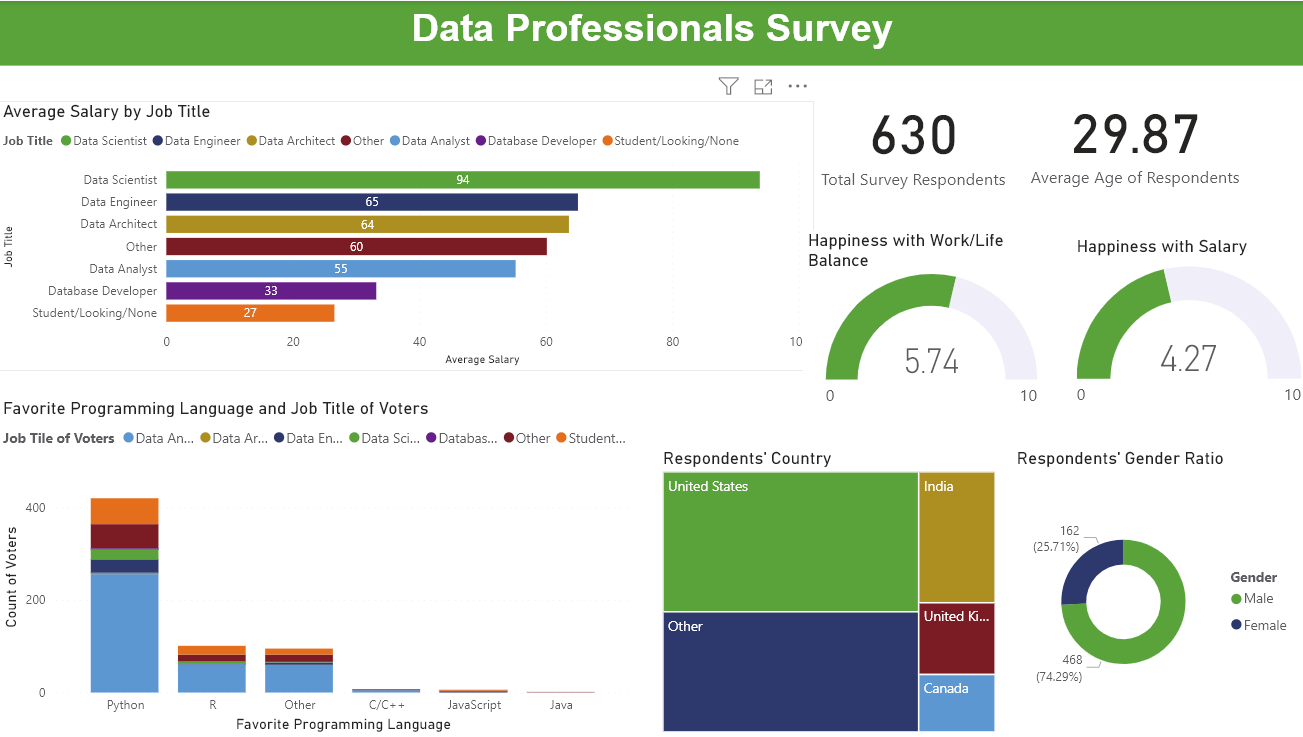

This screenshot's page, from the dashboard's own definition file:
{"tool":"powerbi","page":{"name":"Page 1","canvas":[1280,720],"ordinal":0},"visuals":[{"type":"textbox","box":[0,0,1279.9,63.6],"z":0},{"type":"card","fields":{"Values":["Count(Data Professional Survey.Unique ID)"]},"box":[798.2,75.8,194.4,118.6],"z":1000},{"type":"card","fields":{"Values":["Avg(Data Professional Survey.Q10 - Current Age)"]},"box":[1001.2,70.9,222.5,125.9],"z":2000},{"type":"barChart","title":"Average Salary by Job Title ","fields":{"Category":["Data Professional Survey.Q1 - Which Title Best Fits your Current Role?"],"Y":["Avg(Data Professional Survey.Average Salary (in USD))"],"Series":["Data Professional Survey.Q1 - Which Title Best Fits your Current Role?"]},"box":[0,97.8,798.2,264],"z":3000},{"type":"columnChart","title":"Favorite Programming Language and Job Title of Voters","fields":{"Category":["Data Professional Survey.Q5 - Favorite Programming Language"],"Y":["CountNonNull(Data Professional Survey.Unique ID)"],"Series":["Data Professional Survey.Q1 - Which Title Best Fits your Current Role?"]},"box":[0,387.5,624.7,332.5],"z":4000},{"type":"treemap","title":"Respondents'' Country","fields":{"Values":["CountNonNull(Data Professional Survey.Q11 - Which Country do you live in?)"],"Group":["Data Professional Survey.Q11 - Which Country do you live in?"]},"box":[645.4,436.4,334.9,283.6],"z":5000},{"type":"gauge","title":"Happiness with Salary","fields":{"Y":["Avg(Data Professional Survey.Q6 - How Happy are you in your Current Position with the following? (Salary))"],"MinValue":["Min(Data Professional Survey.Q6 - How Happy are you in your Current Position with the following? (Salary))"],"MaxValue":["Max(Data Professional Survey.Q6 - How Happy are you in your Current Position with the following? (Salary))"]},"box":[1050.1,229.8,229.8,182.1],"z":6000},{"type":"gauge","title":"Happiness with Work/Life Balance","fields":{"Y":["Avg(Data Professional Survey.Q6 - How Happy are you in your Current Position with the following? (Work/Life Balance))"],"MinValue":["Min(Data Professional Survey.Q6 - How Happy are you in your Current Position with the following? (Work/Life Balance))1"],"MaxValue":["Max(Data Professional Survey.Q6 - How Happy are you in your Current Position with the following? (Work/Life Balance))2"]},"box":[787.2,223.7,251.8,183.4],"z":7000},{"type":"donutChart","title":"Respondents'' Gender Ratio","fields":{"Category":["Data Professional Survey.Q9 - Male/Female?"],"Y":["CountNonNull(Data Professional Survey.Q9 - Male/Female?)"]},"box":[991.4,436.4,284.8,283.6],"z":8000}]}

Visuals, with their boxes in screenshot pixels (x1, y1, x2, y2), scaled from the page's 1280x720 canvas onto the 1303x737 screenshot:
textbox: (0,0,1302,65)
card - Count(Data Professional Survey.Unique ID): (813,78,1010,199)
card - Avg(Data Professional Survey.Q10 - Current Age): (1019,73,1246,201)
"Average Salary by Job Title " barChart: (0,100,813,370)
"Favorite Programming Language and Job Title of Voters" columnChart: (0,397,636,736)
"Respondents'' Country" treemap: (657,447,998,736)
"Happiness with Salary" gauge: (1069,235,1302,422)
"Happiness with Work/Life Balance" gauge: (801,229,1058,417)
"Respondents'' Gender Ratio" donutChart: (1009,447,1299,736)
